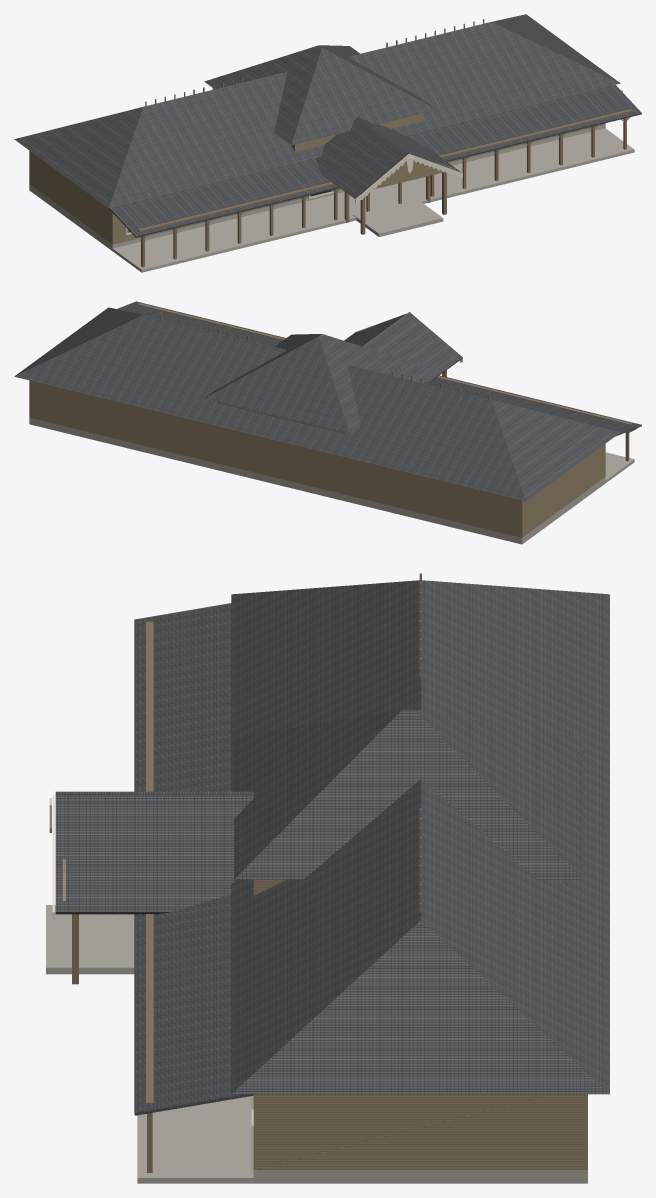
Rendered from tainan-1900.glb.
The picture shows the model from 3 angles, top to bottom: view 1: azimuth 30°, elevation 25°; view 2: azimuth 150°, elevation 25°; view 3: azimuth 270°, elevation 25°; orthographic projection. The views are drawn at different scales.
Parts seen in each view (by area): view 1: b; view 2: b; view 3: b.
Part boxes in pixels (x1,y1,x2,y2): b: [14, 14, 641, 272]; b: [14, 301, 641, 544]; b: [46, 573, 609, 1183].
Bounding box in the file's own units: 48.47 × 10.4 × 22.8.
Materials: 7 (3 with a texture image).
